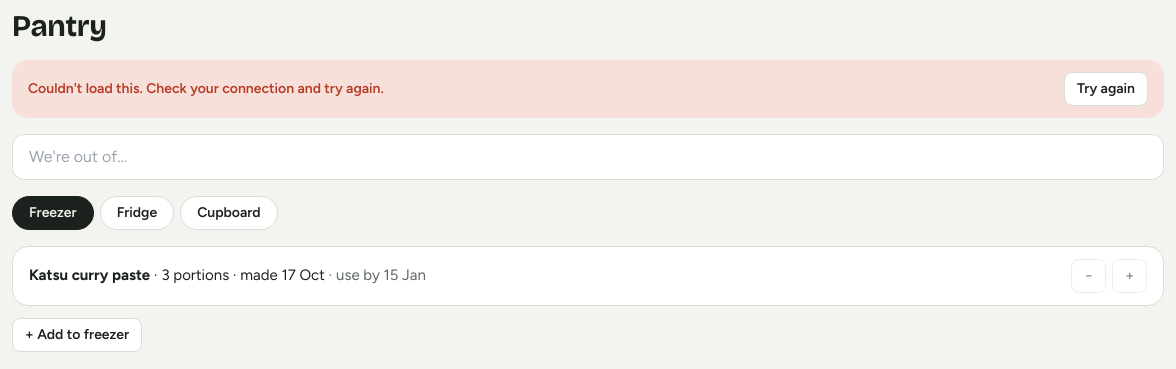
Test: while the phone's kept copy is showing, the − / + and have / low / out buttons wait for the fresh numbers
This screenshot has width=1176, height=369.
Expected: the button named "One fewer Katsu curry paste" is disabled, [1071,259,1106,293]
Expected: the button named "One more Katsu curry paste" is disabled, [1112,259,1147,293]
Click the tab "Cupboard" at [229, 213], box [180,196,278,230]
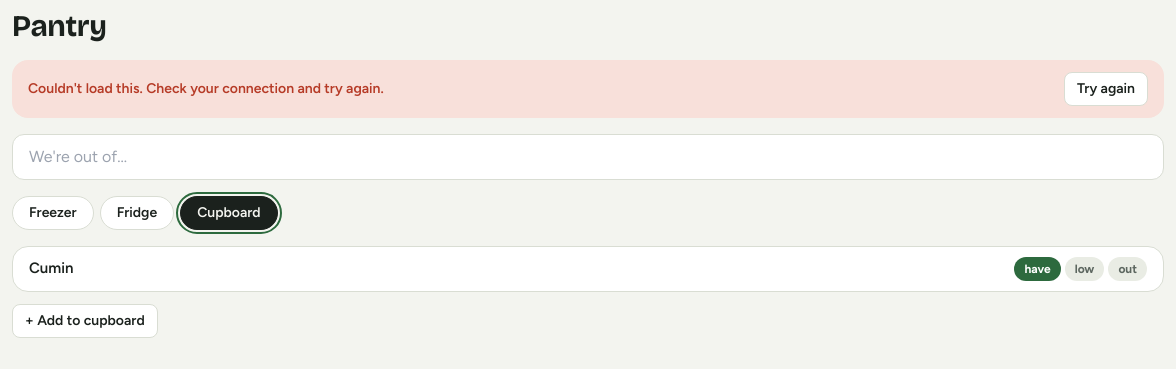
Expected: the button "low" is disabled, [1065,257,1104,281]
